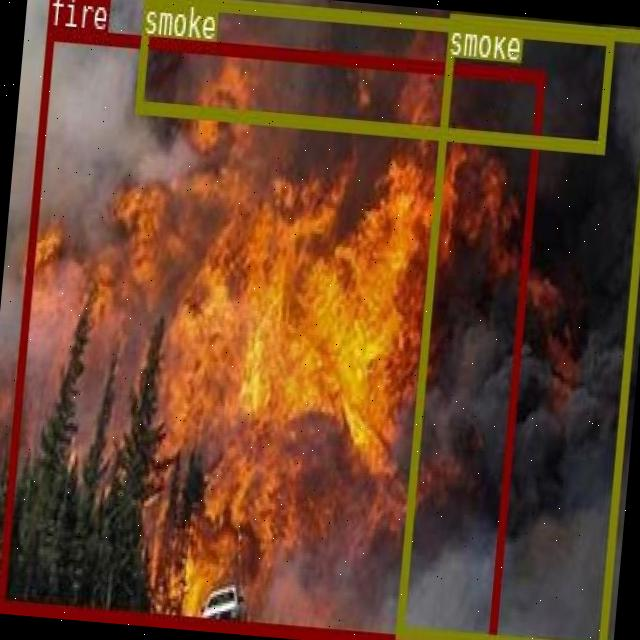fire: (0, 25, 542, 640)
smoke: (394, 13, 640, 640), (134, 0, 612, 149)
